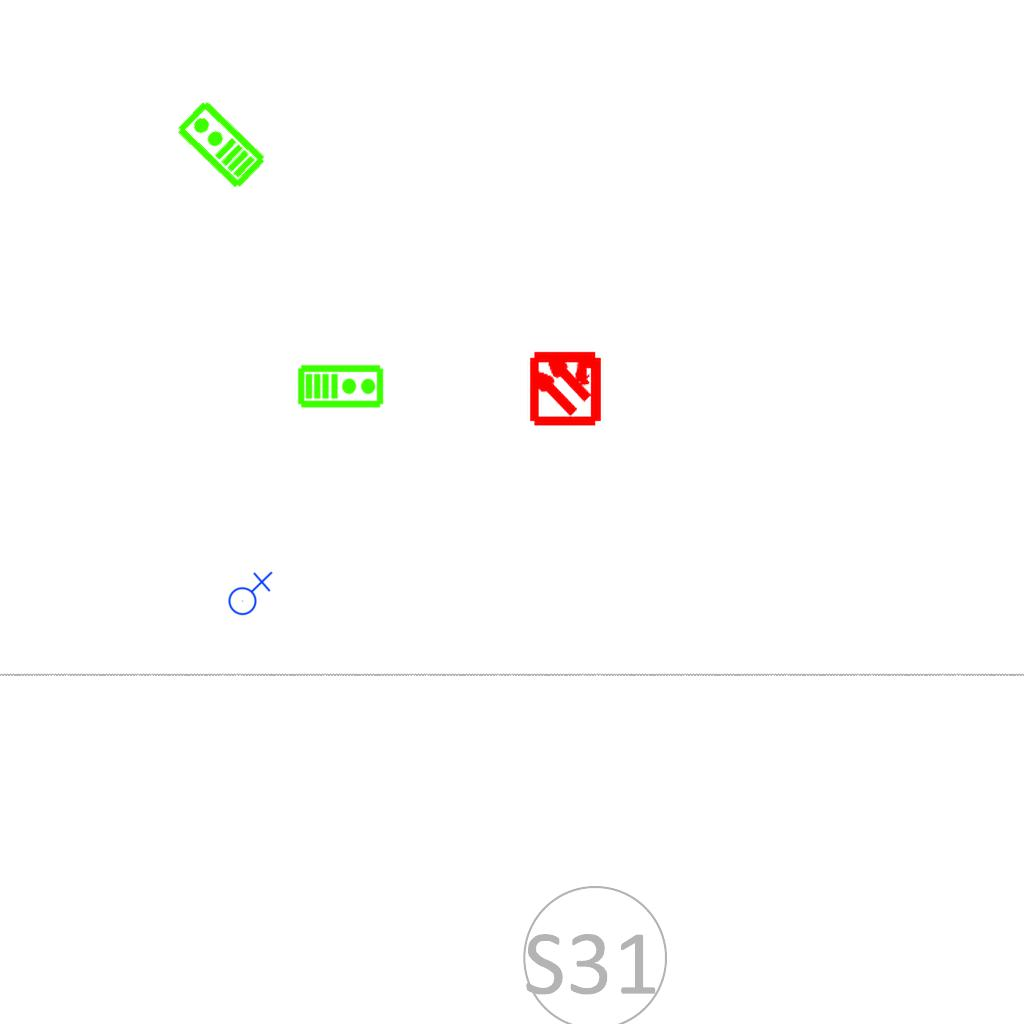Elektroanschluss_allgemein_230V_Geraeteanschlussdose_230V: (224, 569, 273, 616)
Gegensprechanlage_mit_Video: (172, 97, 269, 193), (297, 362, 385, 409)
OT_Multisensormelder_(Kombination_RMO_WMD): (509, 330, 622, 443)
